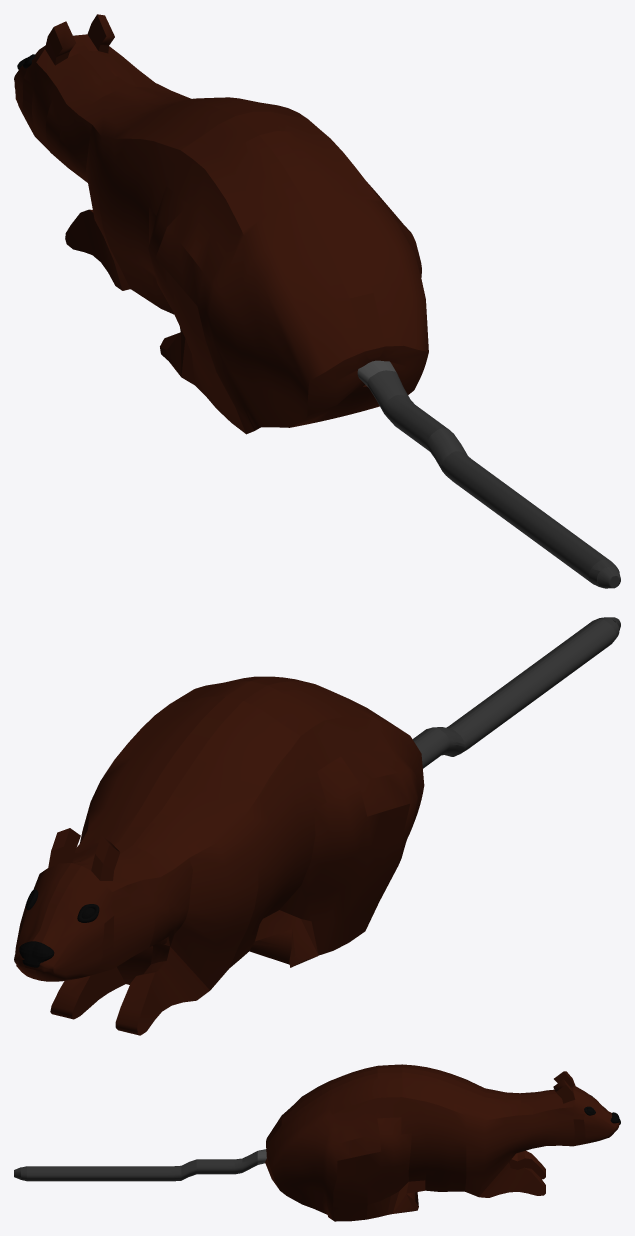
Rendered from Rat.fbx.
The picture shows the model from 3 angles, top to bottom: view 1: azimuth 30°, elevation 25°; view 2: azimuth 150°, elevation 25°; view 3: azimuth 270°, elevation 25°; orthographic projection. The views are drawn at different scales.
Visible parts, largest first — view 1: body, tail; view 2: body, tail, Nose; view 3: body, tail.
Part boxes in pixels (<box>): body: <box>14,14,428,434</box>; tail: <box>367,370,620,588</box>; body: <box>14,676,424,1035</box>; tail: <box>412,617,620,768</box>; Nose: <box>19,941,54,967</box>; body: <box>265,1064,619,1221</box>; tail: <box>14,1151,257,1181</box>.
Size of the model in its own units: 174 by 198 by 804.
